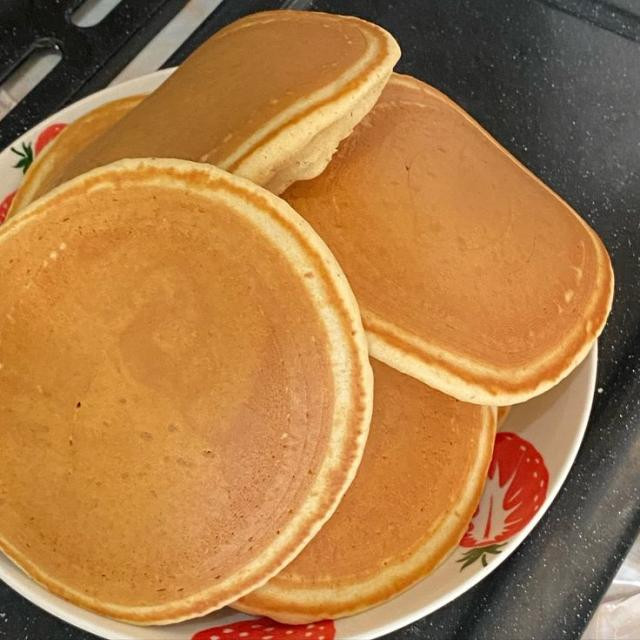pancake: (0, 160, 373, 623), (284, 75, 613, 405), (233, 361, 495, 623), (50, 11, 399, 193), (8, 95, 145, 215), (498, 406, 512, 428)
